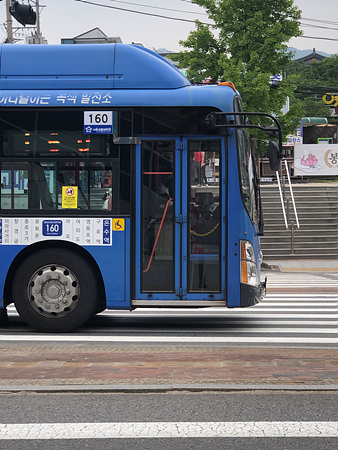entrance: (130, 130, 231, 306)
